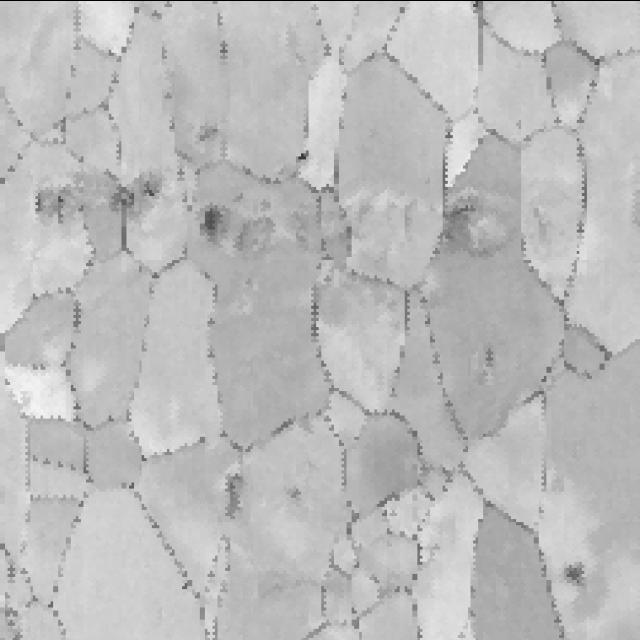good_void: (438, 171, 503, 267), (100, 165, 166, 220), (29, 174, 92, 224), (228, 200, 273, 256), (194, 193, 231, 253), (215, 470, 246, 522), (559, 550, 586, 593), (280, 479, 309, 514), (480, 334, 500, 374), (194, 119, 222, 147), (290, 143, 316, 162)
